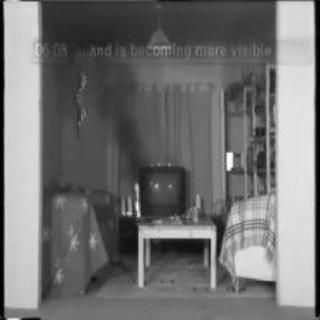Smoke: (104, 89, 142, 163)
